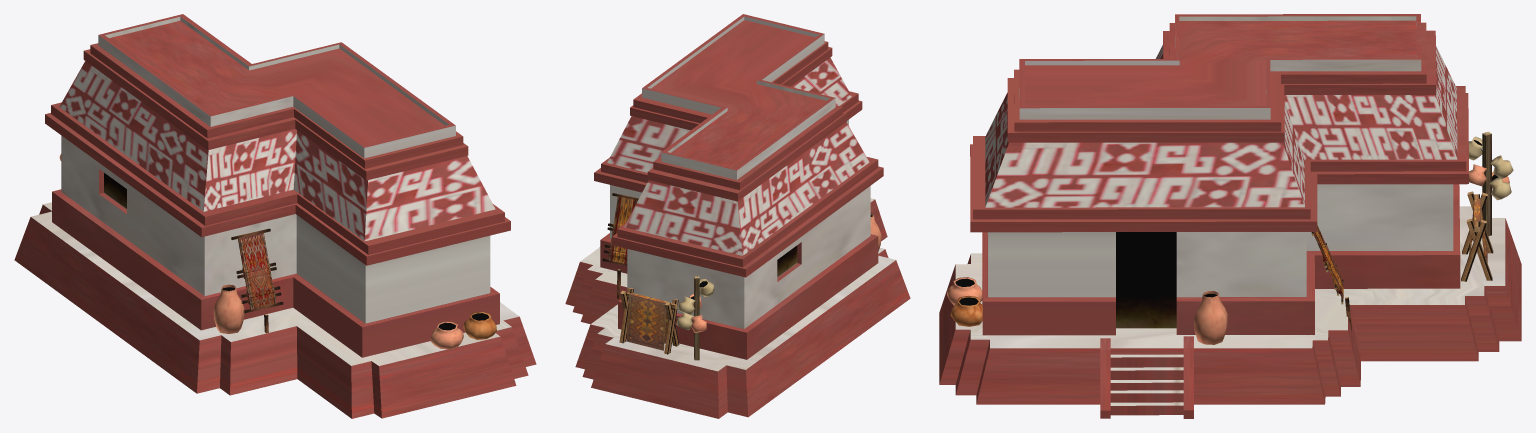
The model's file is house_nobre_2.dae.
3 views of the same model, side by side, from view 1: azimuth 30°, elevation 25°; view 2: azimuth 150°, elevation 25°; view 3: azimuth 270°, elevation 25° (orthographic). The views are drawn at different scales.
Parts seen in each view (by area): view 1: house_nobre_2; view 2: house_nobre_2; view 3: house_nobre_2.
Boxes of the visible parts, x1,y1,x2,y2 form: house_nobre_2: (14,14,536,418); house_nobre_2: (565,14,910,418); house_nobre_2: (939,14,1521,418).
Bounding box in the file's own units: 11.27 × 16.58 × 8.3.
